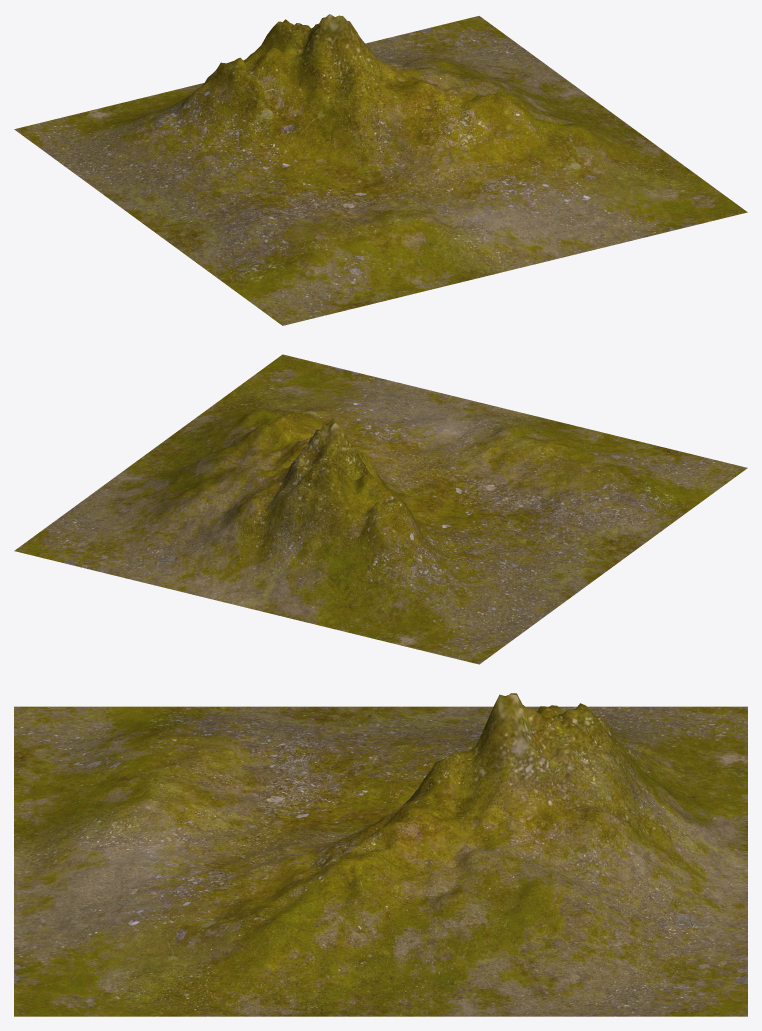
Rendered from mountain_opt.glb.
3 renders of one model, top to bottom at view 1: azimuth 30°, elevation 25°; view 2: azimuth 150°, elevation 25°; view 3: azimuth 270°, elevation 25°, orthographic. The views are drawn at different scales.
Visible parts, largest first — view 1: Landscape_Material.001_0; view 2: Landscape_Material.001_0; view 3: Landscape_Material.001_0.
Part boxes in pixels (<box>): Landscape_Material.001_0: <box>14,14,747,325</box>; Landscape_Material.001_0: <box>14,354,747,664</box>; Landscape_Material.001_0: <box>14,693,747,1016</box>.
Bounding box in the file's own units: 2 × 0.5061 × 2.
1 material, 1 textured.
